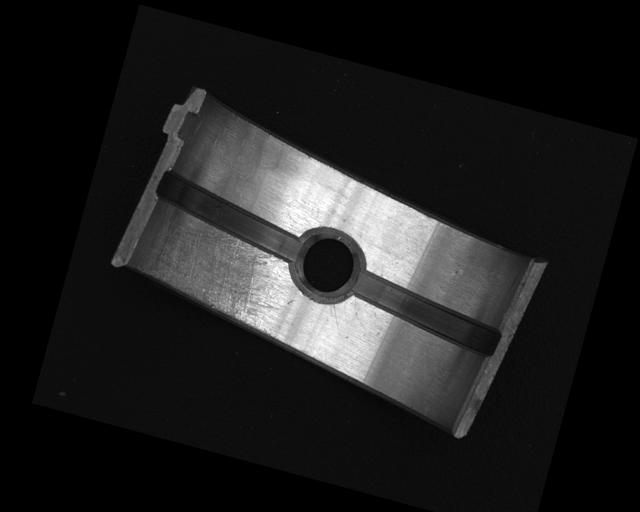gap: (144, 166, 312, 266), (348, 270, 509, 359)
hole: (284, 224, 367, 303)
scratch: (127, 200, 293, 331)
